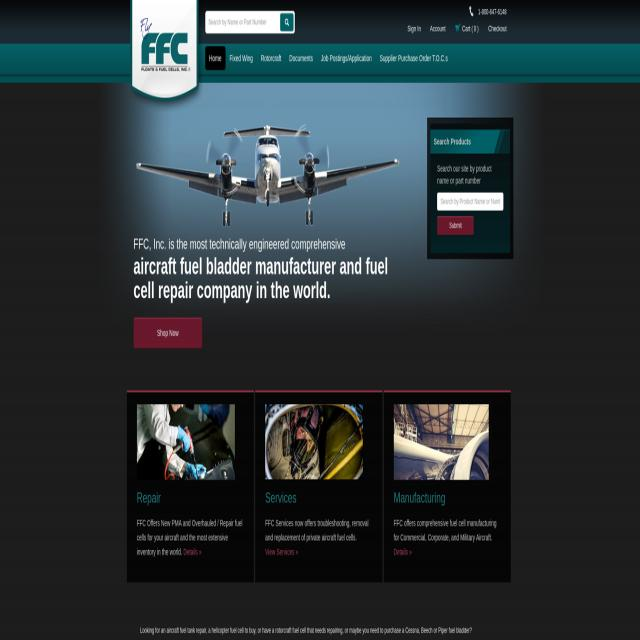button: (134, 118, 400, 228), (137, 404, 235, 480), (265, 404, 363, 480), (394, 404, 492, 480), (130, 0, 196, 99), (134, 317, 202, 349), (376, 46, 452, 71), (317, 46, 376, 70), (225, 46, 257, 70), (285, 46, 317, 70), (437, 216, 474, 235), (257, 46, 285, 70), (205, 46, 225, 70), (280, 13, 294, 31)
field: (204, 11, 294, 34), (437, 192, 503, 210)
